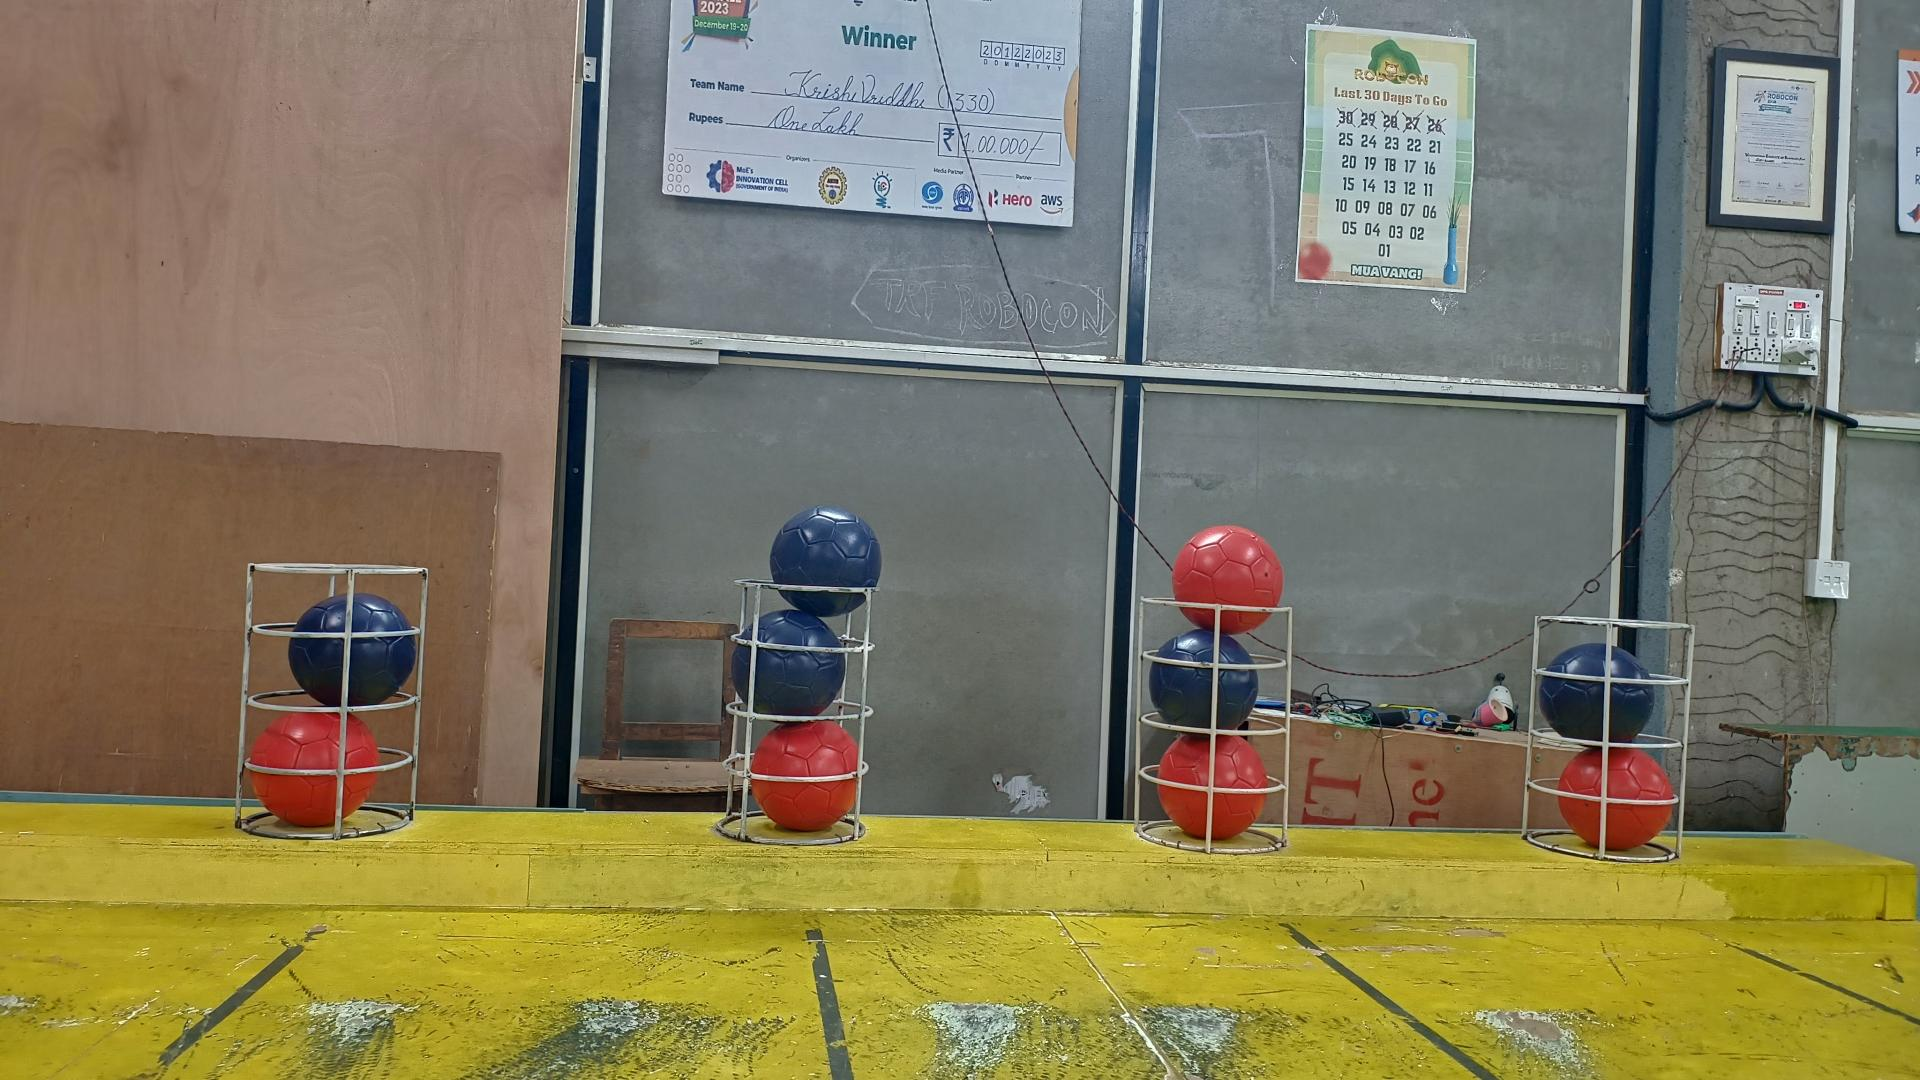dhoka: (286, 592, 414, 708), (769, 509, 881, 622), (732, 607, 845, 715), (1542, 645, 1658, 742), (1146, 629, 1255, 731)
laale: (244, 713, 375, 829), (1168, 527, 1282, 637), (750, 720, 858, 832), (1563, 746, 1675, 852), (1156, 736, 1266, 840)
